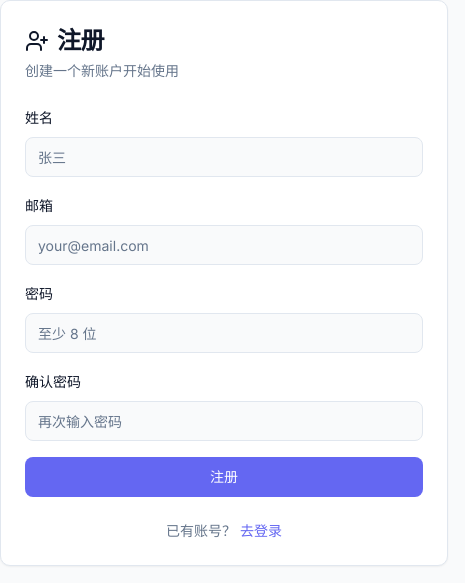
Test: RegisterForm › 注册功能 › 加载时应该禁用输入框
The image size is (465, 583).
Type "Test User" into the field labelled "姓名" at coordinates (224, 157), box [25, 137, 423, 177]
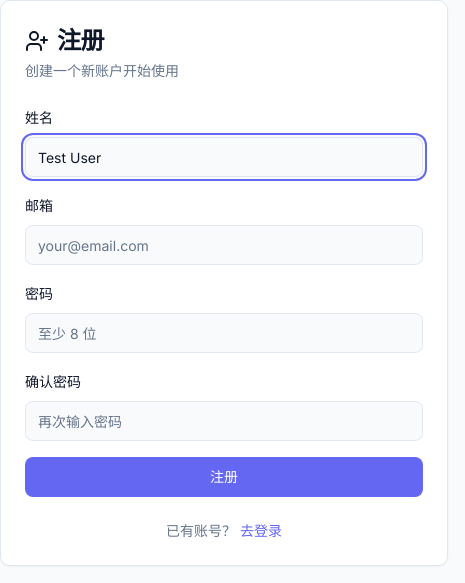
Type "test@example.com" into the field labelled "邮箱" at coordinates (224, 245), box [25, 225, 423, 265]
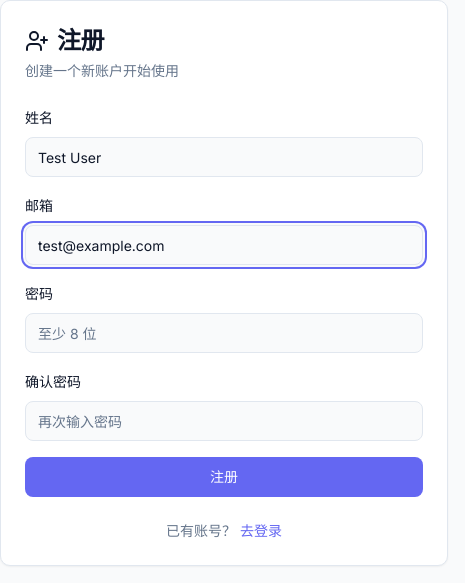
Type "password123" into the password field labelled "密码" at coordinates (224, 333), box [25, 313, 423, 353]
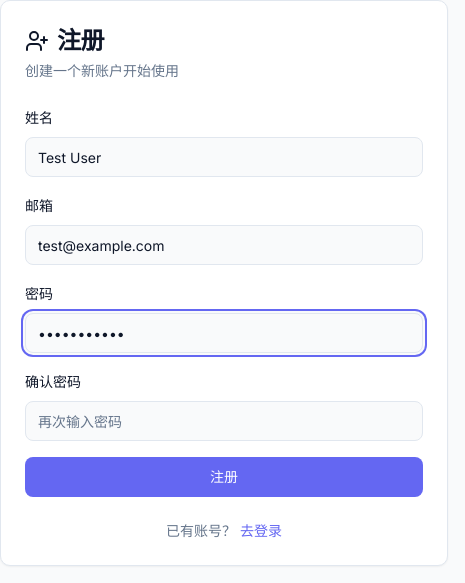
Type "password123" into the password field labelled "确认密码" at coordinates (224, 421), box [25, 401, 423, 441]
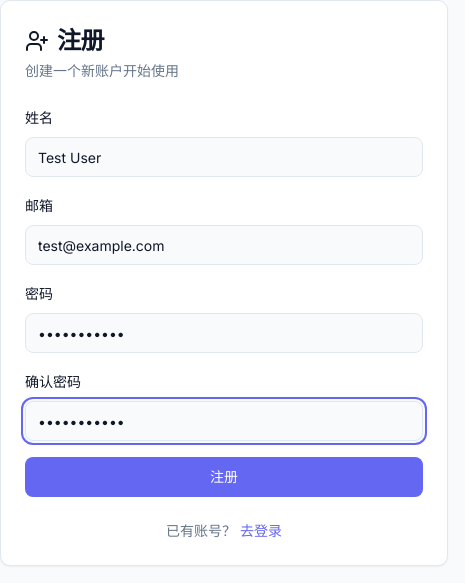
Click the button "注册" at coordinates (224, 477), box [25, 457, 423, 497]
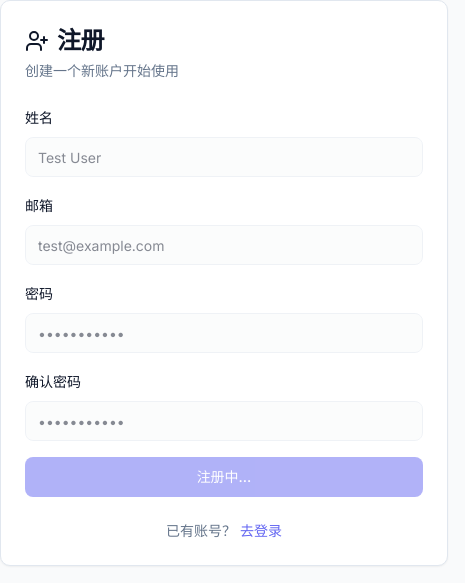
Result: the field labelled "姓名" is disabled at [25, 137, 423, 177]
Result: the field labelled "邮箱" is disabled at [25, 225, 423, 265]
Result: the password field labelled "密码" is disabled at [25, 313, 423, 353]
